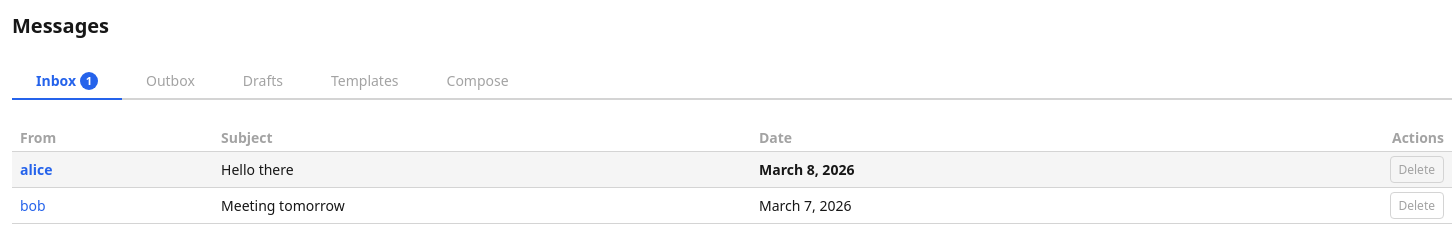
Test case: MessagesPage › switches to outbox tab
This screenshot has width=1452, height=241.
Expected: the button "Hello there" is shown, [221,160,294,179]
Click the button "Outbox" at point(170, 82), box [122,63,219,100]
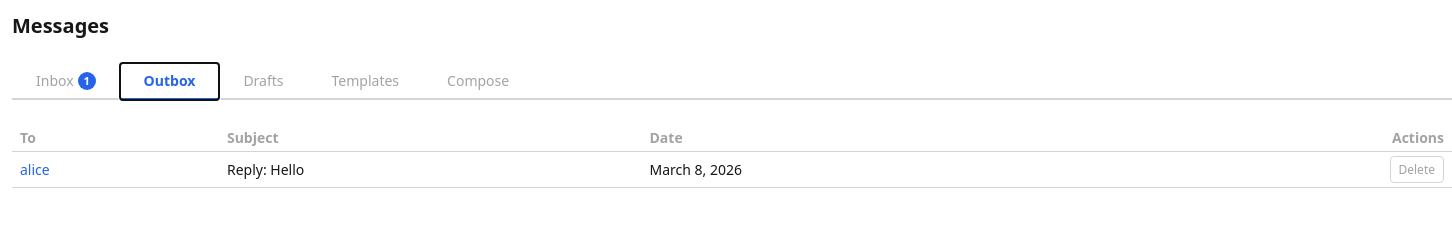
Result: the button "Reply: Hello" is shown at [227,160,304,179]
